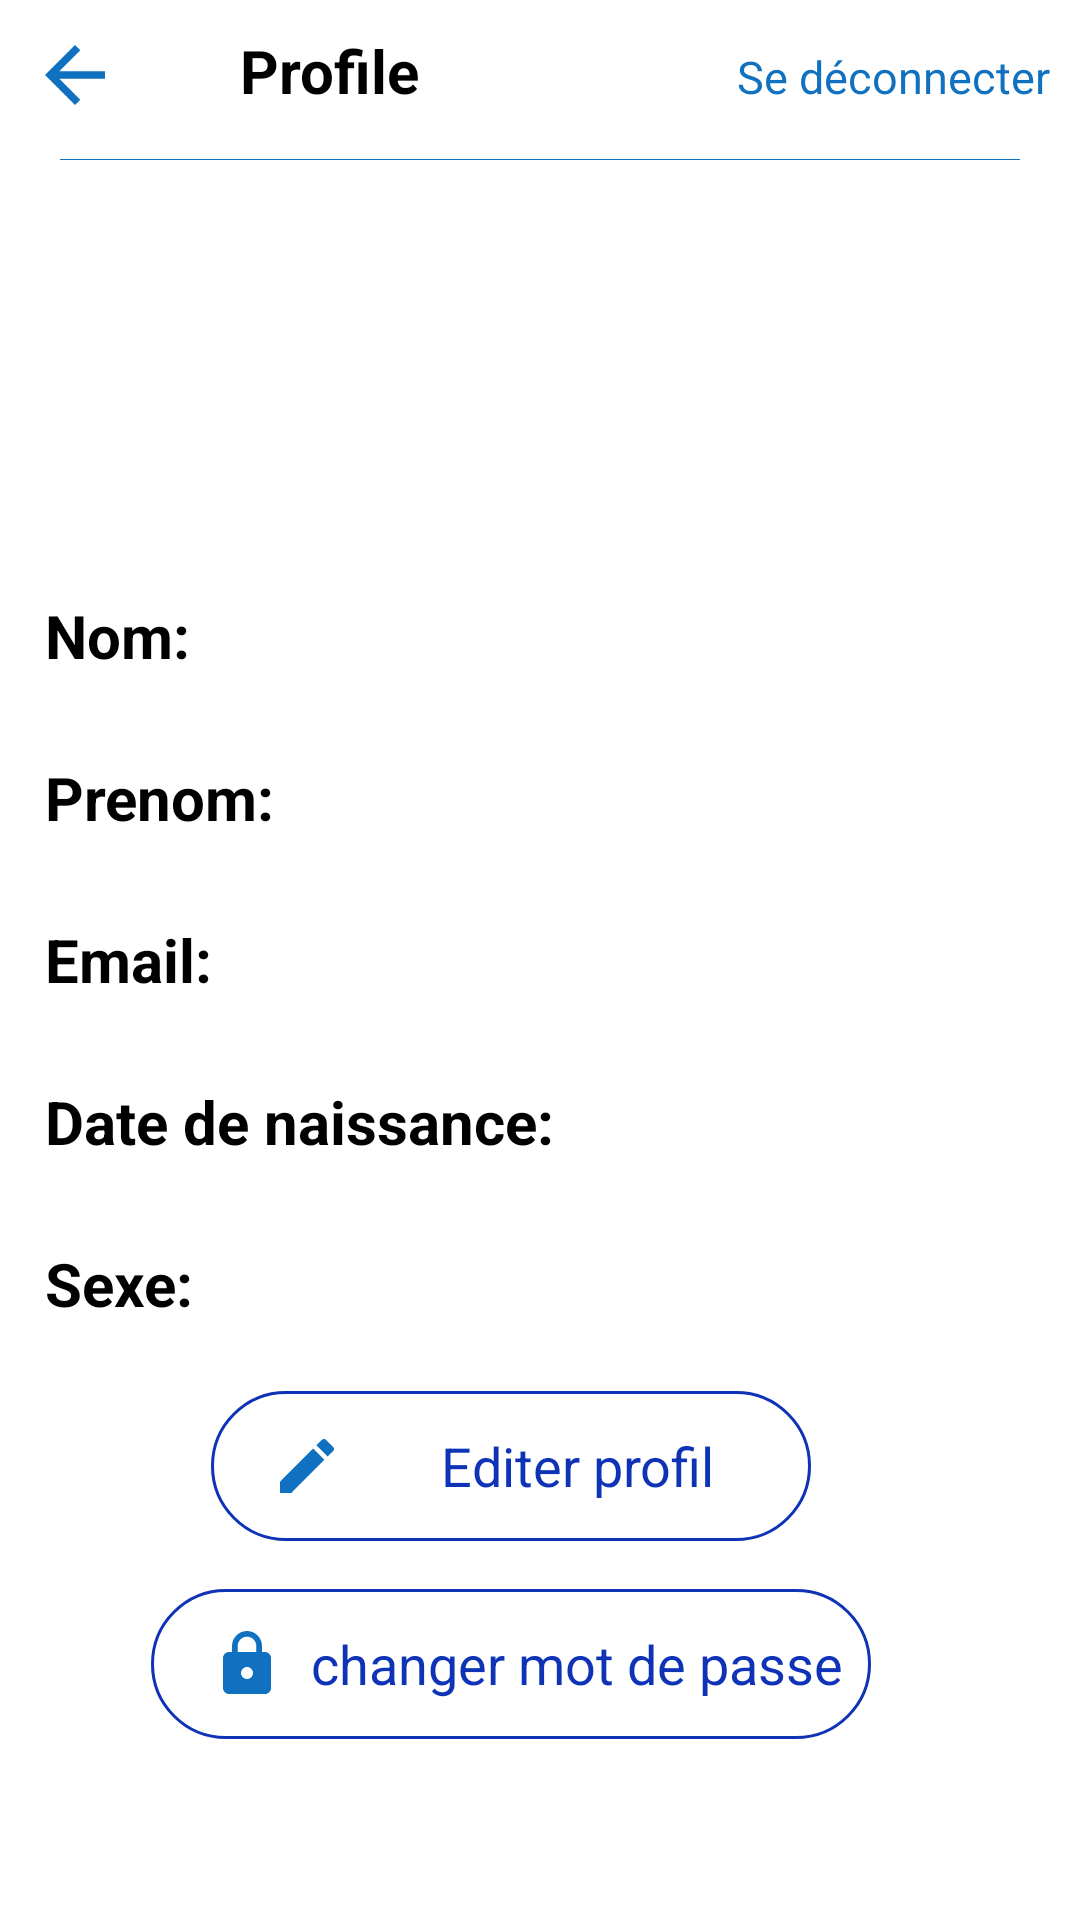

Icons on this 1080px×1920px Android screen, each with the point to tap as [x,y]:
arrow back: [75,75]
